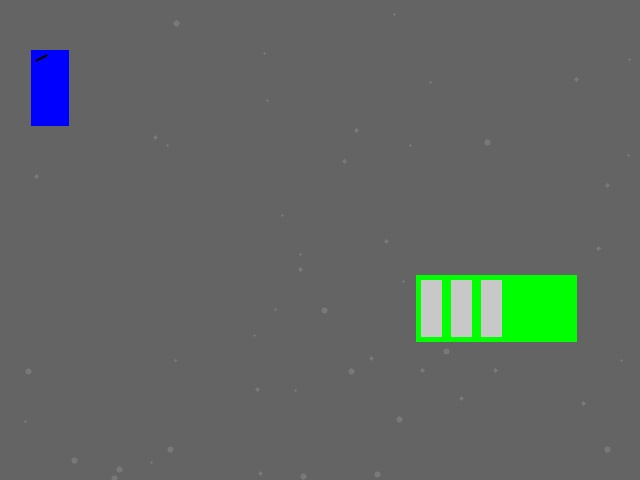bus: (416, 275, 576, 341)
motorcycle: (31, 50, 68, 125)
